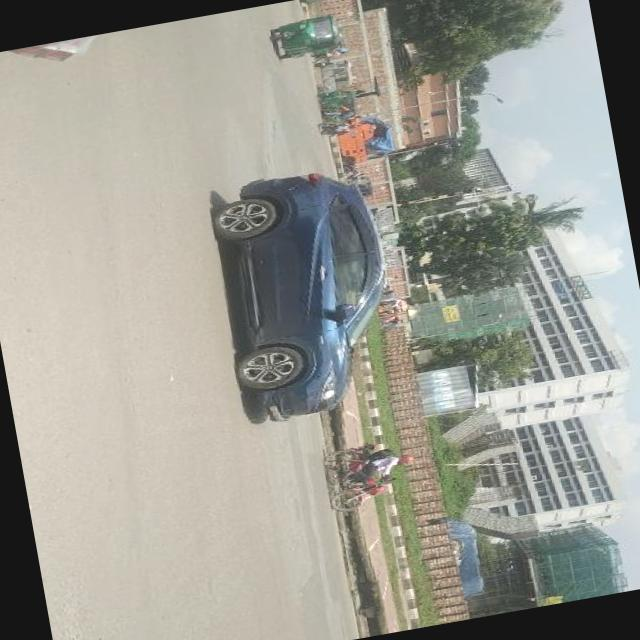car: (200, 162, 403, 432)
motorcycle: (316, 438, 398, 518), (267, 14, 343, 64), (312, 57, 353, 96), (316, 118, 346, 140)
